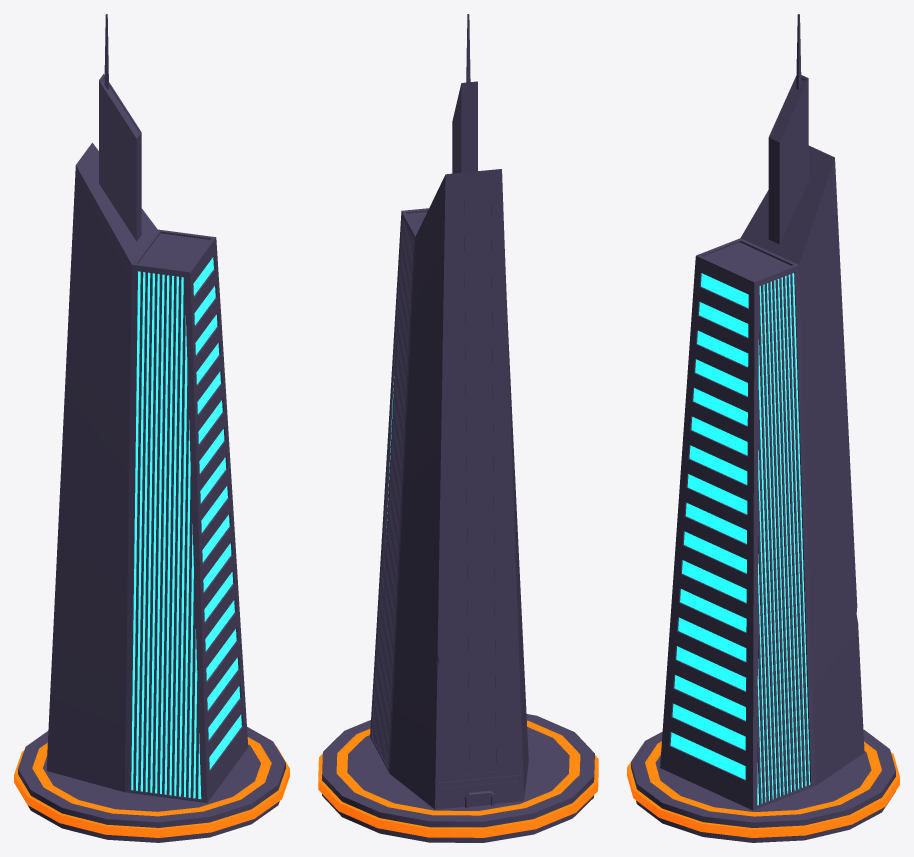
The model's file is House4.fbx.
The picture shows the model from 3 angles, left to right: view 1: azimuth 30°, elevation 25°; view 2: azimuth 150°, elevation 25°; view 3: azimuth 270°, elevation 25°; orthographic projection. The views are drawn at different scales.
Parts seen in each view (by area): view 1: House4; view 2: House4; view 3: House4.
Part boxes in pixels (x1,y1,x2,y2): House4: (14,14,289,842); House4: (318,14,598,842); House4: (627,14,899,842).
Bounding box in the file's own units: 3090 × 9618 × 3090.
